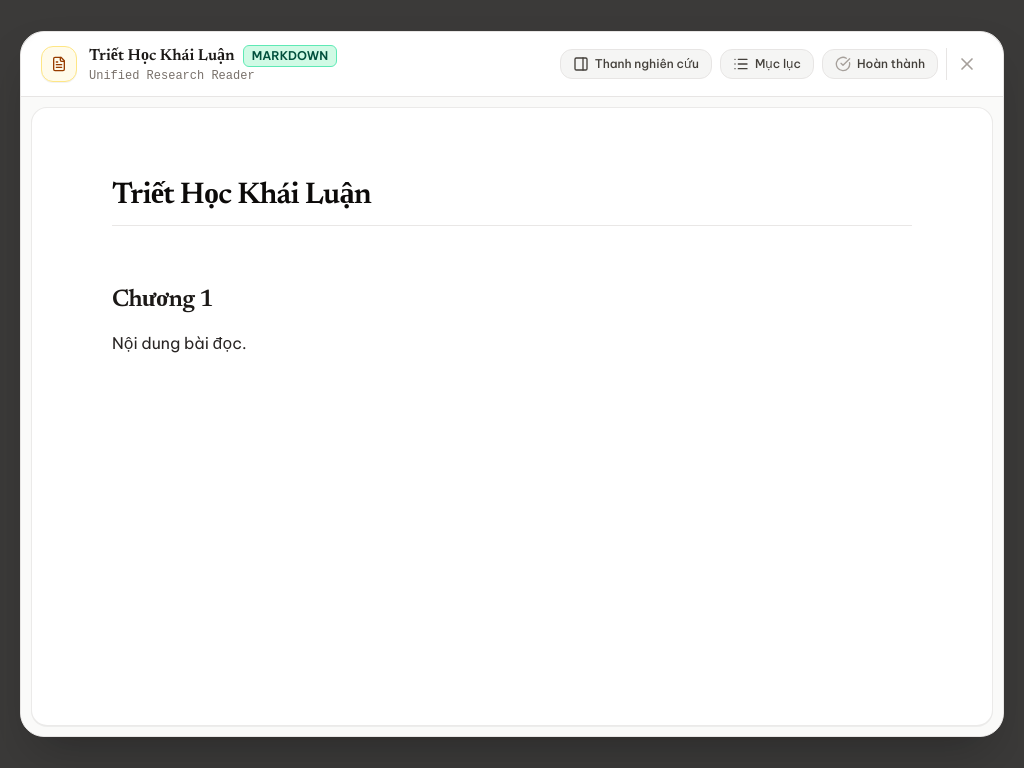
Test case: Phase R2: Reader Sidebar Document-Scoped Notes › 2.1. filters notes by matching precedence: targetNoteId, archive URI, and sourcePath
The width and height of the screenshot is (1024, 768).
Click the button with test id "reader-toggle-sidebar-btn".
click(636, 64)  # box [560,49,712,79]
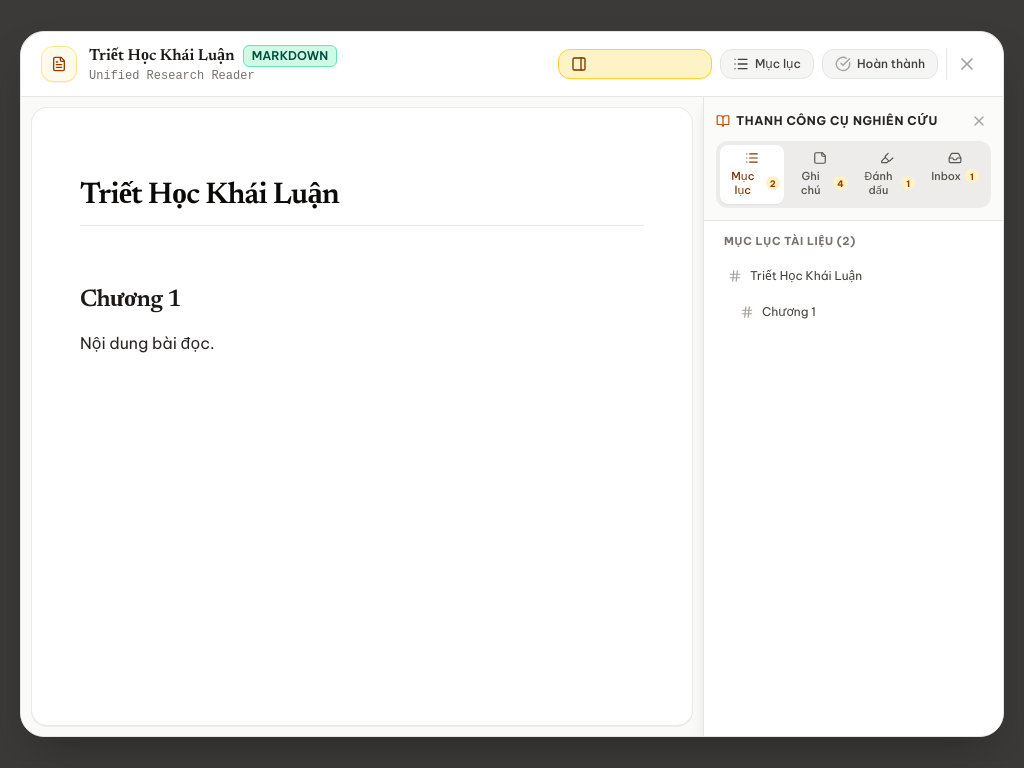
Click the tab with test id "sidebar-tab-notes".
click(820, 174)  # box [788,145,852,204]
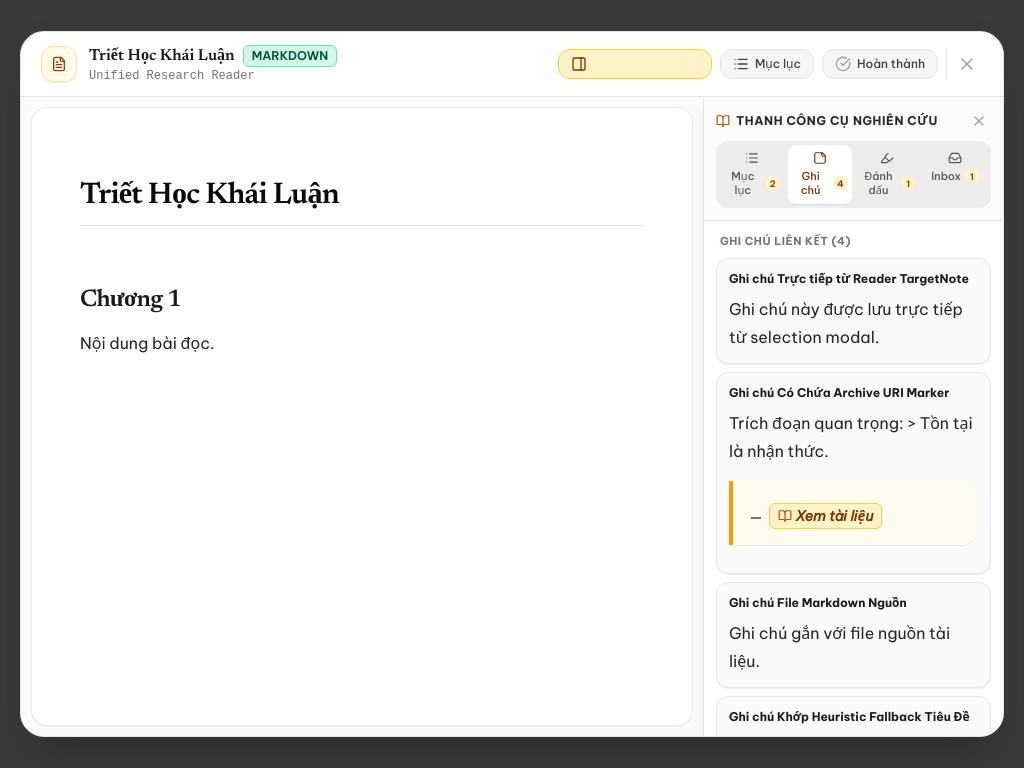
Expected: the element with test id "sidebar-panel-notes" is shown, [716,233,991,736]
Expected: the heading "Ghi chú Trực tiếp từ Reader TargetNote" is shown, [729,270,969,286]
Expected: the heading "Ghi chú Có Chứa Archive URI Marker" is shown, [729,384,949,400]
